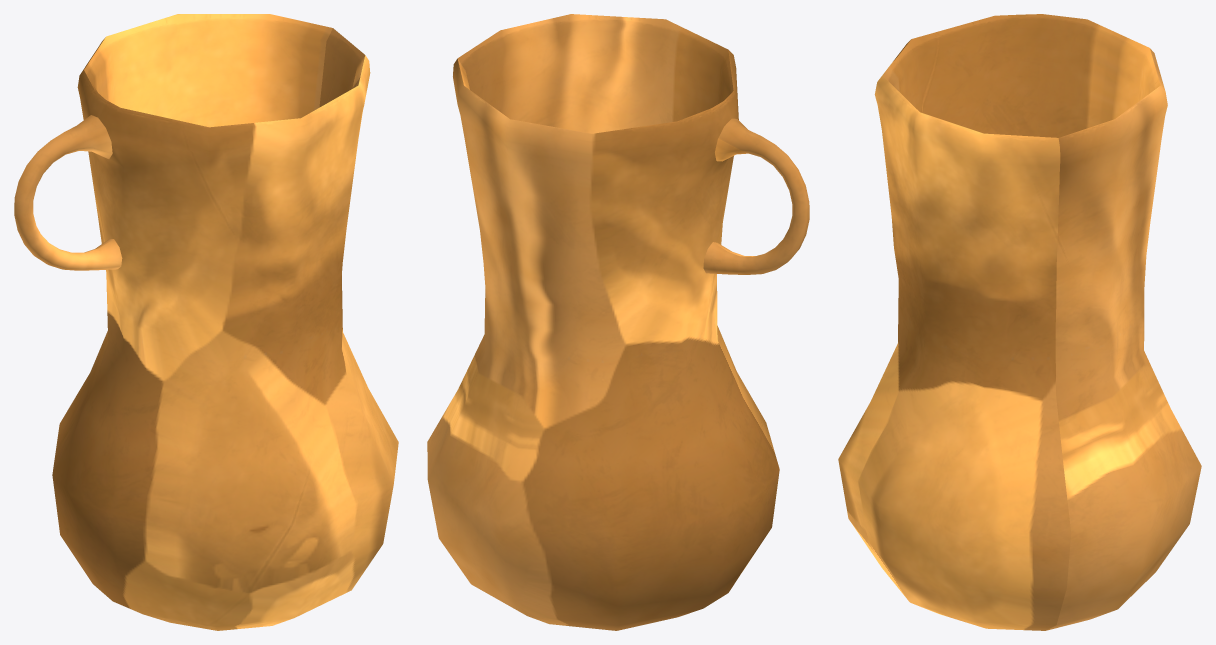
Rendered from SM_Jar.fbx.
The picture shows the model from 3 angles, left to right: view 1: azimuth 30°, elevation 25°; view 2: azimuth 150°, elevation 25°; view 3: azimuth 270°, elevation 25°; orthographic projection.
Parts seen in each view (by area): view 1: SM_Jar_LOD0; view 2: SM_Jar_LOD0; view 3: SM_Jar_LOD0.
Part boxes in pixels (x1,y1,x2,y2): SM_Jar_LOD0: [14, 14, 398, 630]; SM_Jar_LOD0: [427, 14, 809, 630]; SM_Jar_LOD0: [838, 14, 1201, 630].
Bounding box in the file's own units: 35.27 × 31.12 × 49.
